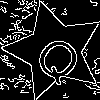Q: (29, 25, 92, 88)
